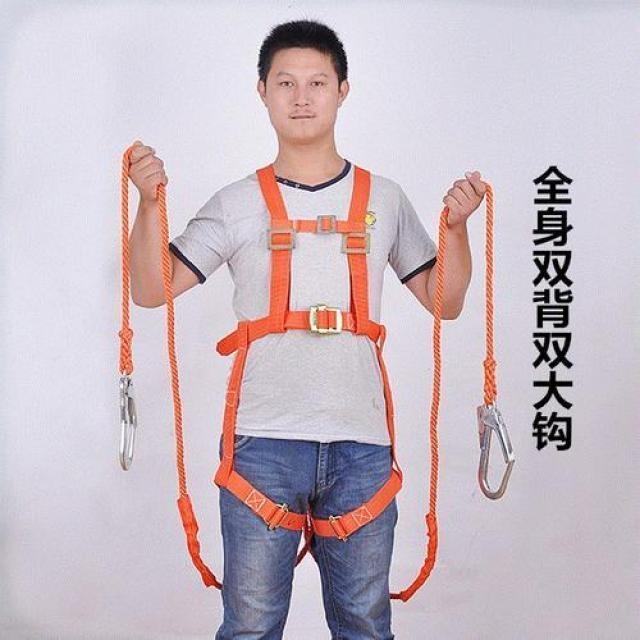Arnes_seguridad: (209, 151, 406, 536)
